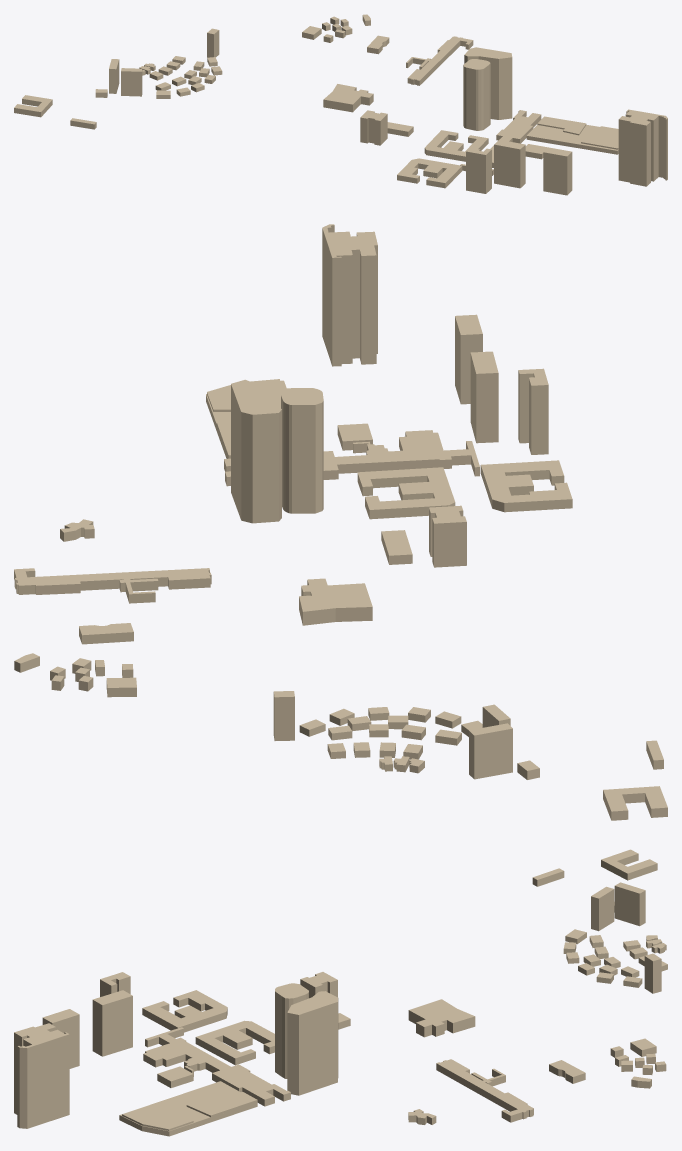
File: -13_-7-estimated-coarse.glb
3 views of the same model, one above another, from view 1: azimuth 30°, elevation 25°; view 2: azimuth 150°, elevation 25°; view 3: azimuth 270°, elevation 25° (orthographic). The views are drawn at different scales.
Bounding box in the file's own units: 1050 × 141 × 1035.
